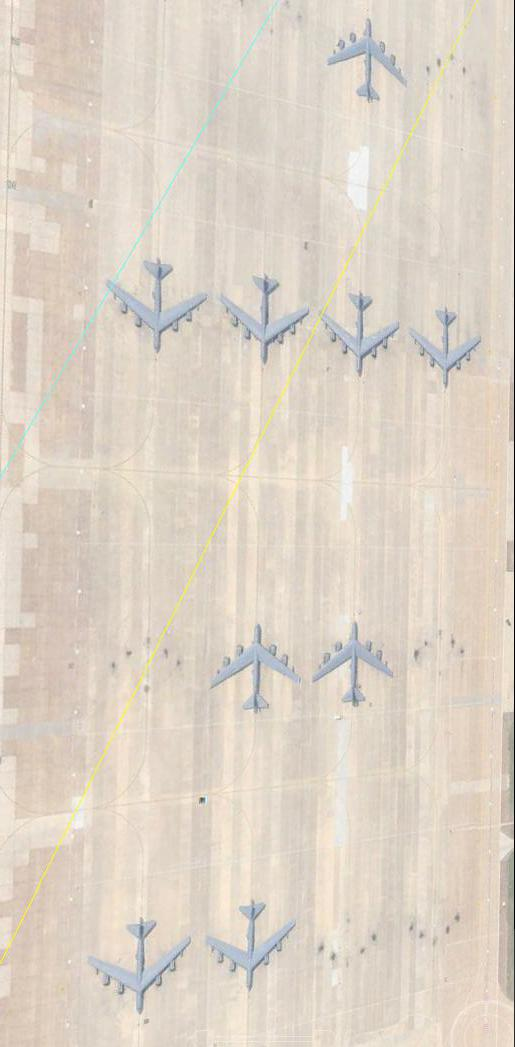B-52: (92, 911, 194, 1016), (102, 253, 209, 353), (213, 272, 315, 365), (201, 898, 301, 988), (214, 622, 304, 716), (311, 620, 399, 709), (324, 16, 409, 107), (321, 291, 405, 380), (408, 305, 482, 394)
